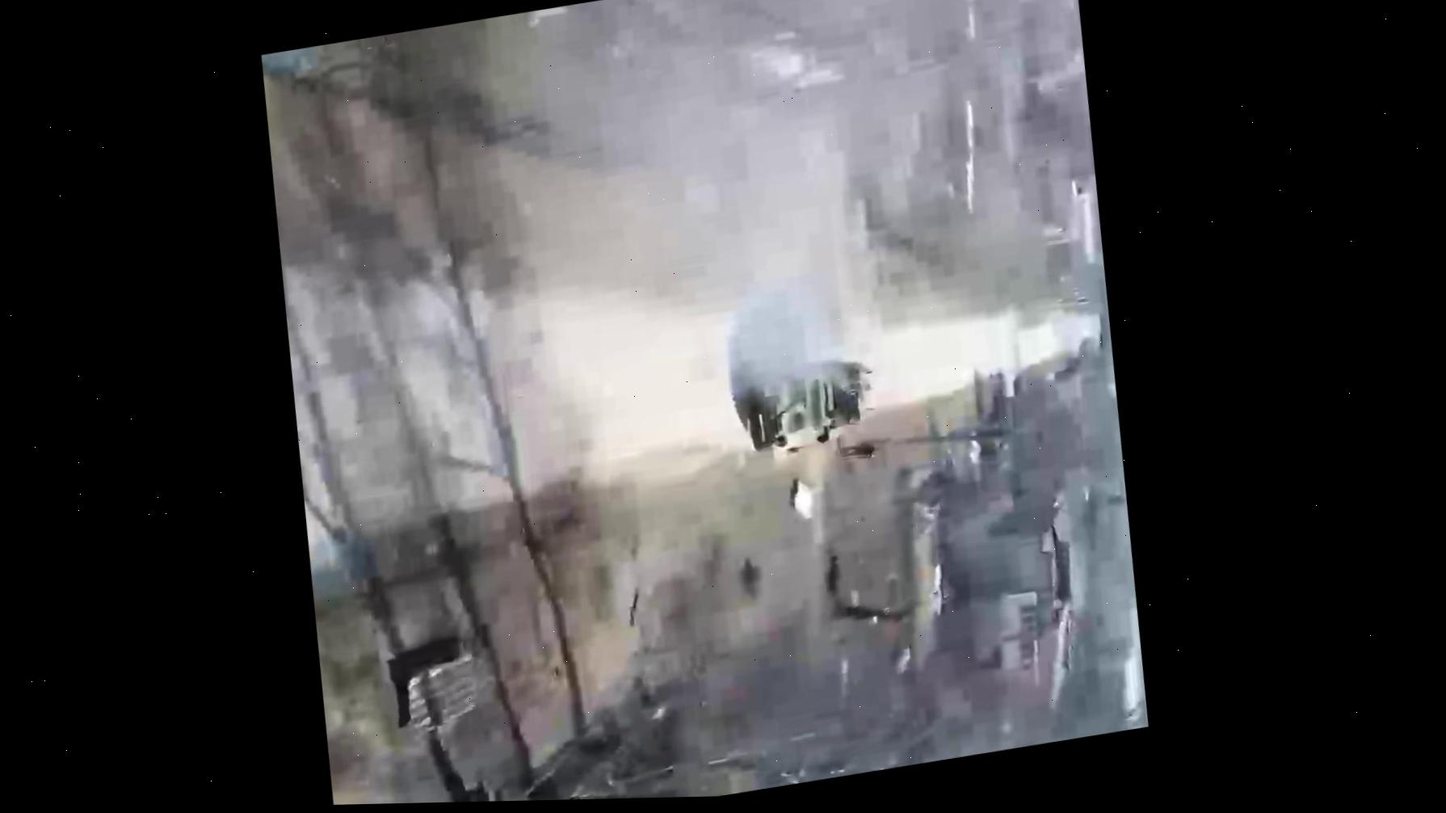armored_car: (745, 352, 878, 451)
person: (830, 432, 887, 465)
